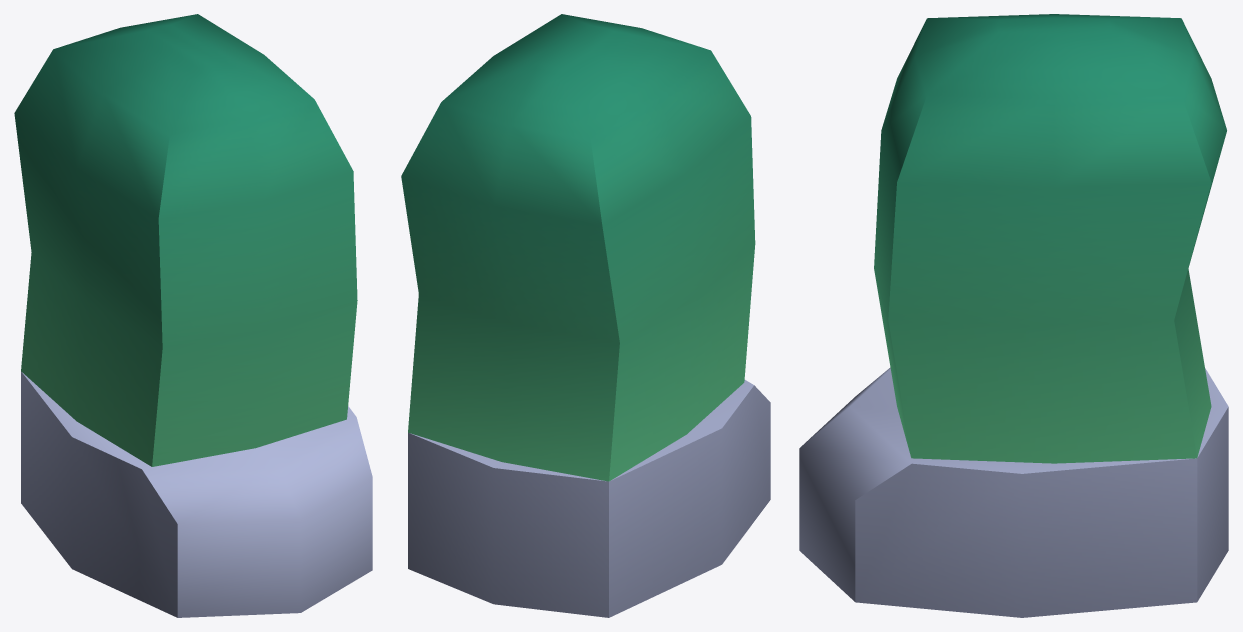
Rendered from leg-left.003_lev2.glb.
3 views of the same model, side by side, from view 1: azimuth 30°, elevation 25°; view 2: azimuth 150°, elevation 25°; view 3: azimuth 270°, elevation 25° (orthographic). The views are drawn at different scales.
Parts seen in each view (by area): view 1: leg-left.003_lev2; view 2: leg-left.003_lev2; view 3: leg-left.003_lev2.
Part boxes in pixels (box(x1,y1,x2,y2)): leg-left.003_lev2: box(14, 14, 372, 617); leg-left.003_lev2: box(401, 14, 770, 617); leg-left.003_lev2: box(799, 14, 1228, 617).
Size of the model in its own units: 0.1384 by 0.2512 by 0.1863.
1 material, 1 textured.
